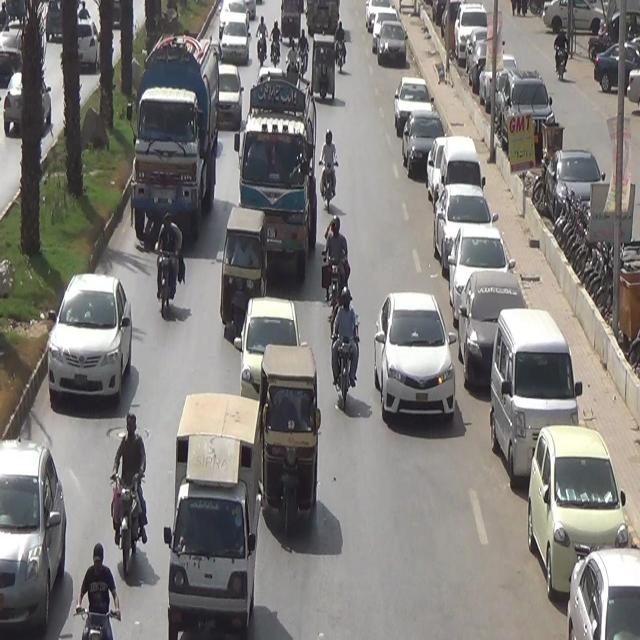car: (0, 430, 76, 633), (39, 260, 128, 394), (374, 292, 458, 432), (233, 300, 298, 394), (217, 61, 247, 137), (222, 16, 250, 68)
motorbike: (103, 419, 159, 580), (75, 535, 122, 640), (154, 210, 188, 322), (336, 292, 364, 417), (326, 212, 354, 316), (316, 111, 339, 198), (268, 22, 282, 74), (288, 36, 299, 85), (257, 20, 267, 63)
truck: (167, 391, 260, 639), (123, 22, 218, 239), (228, 80, 322, 276)
